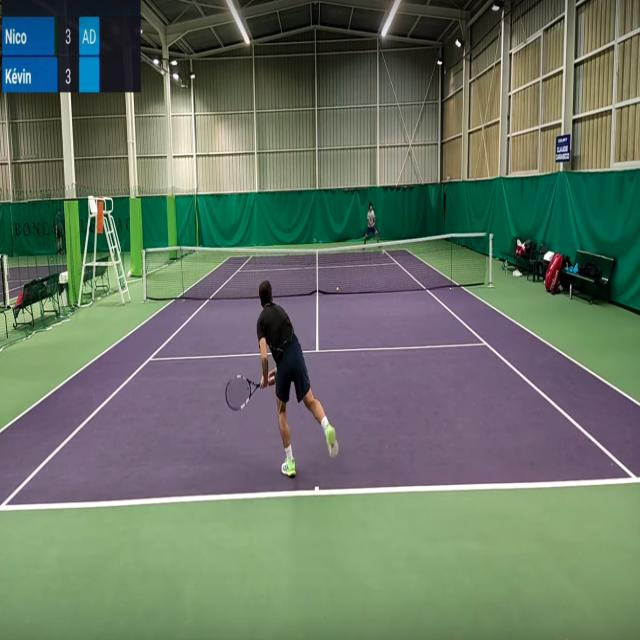ball: (336, 285, 339, 292)
